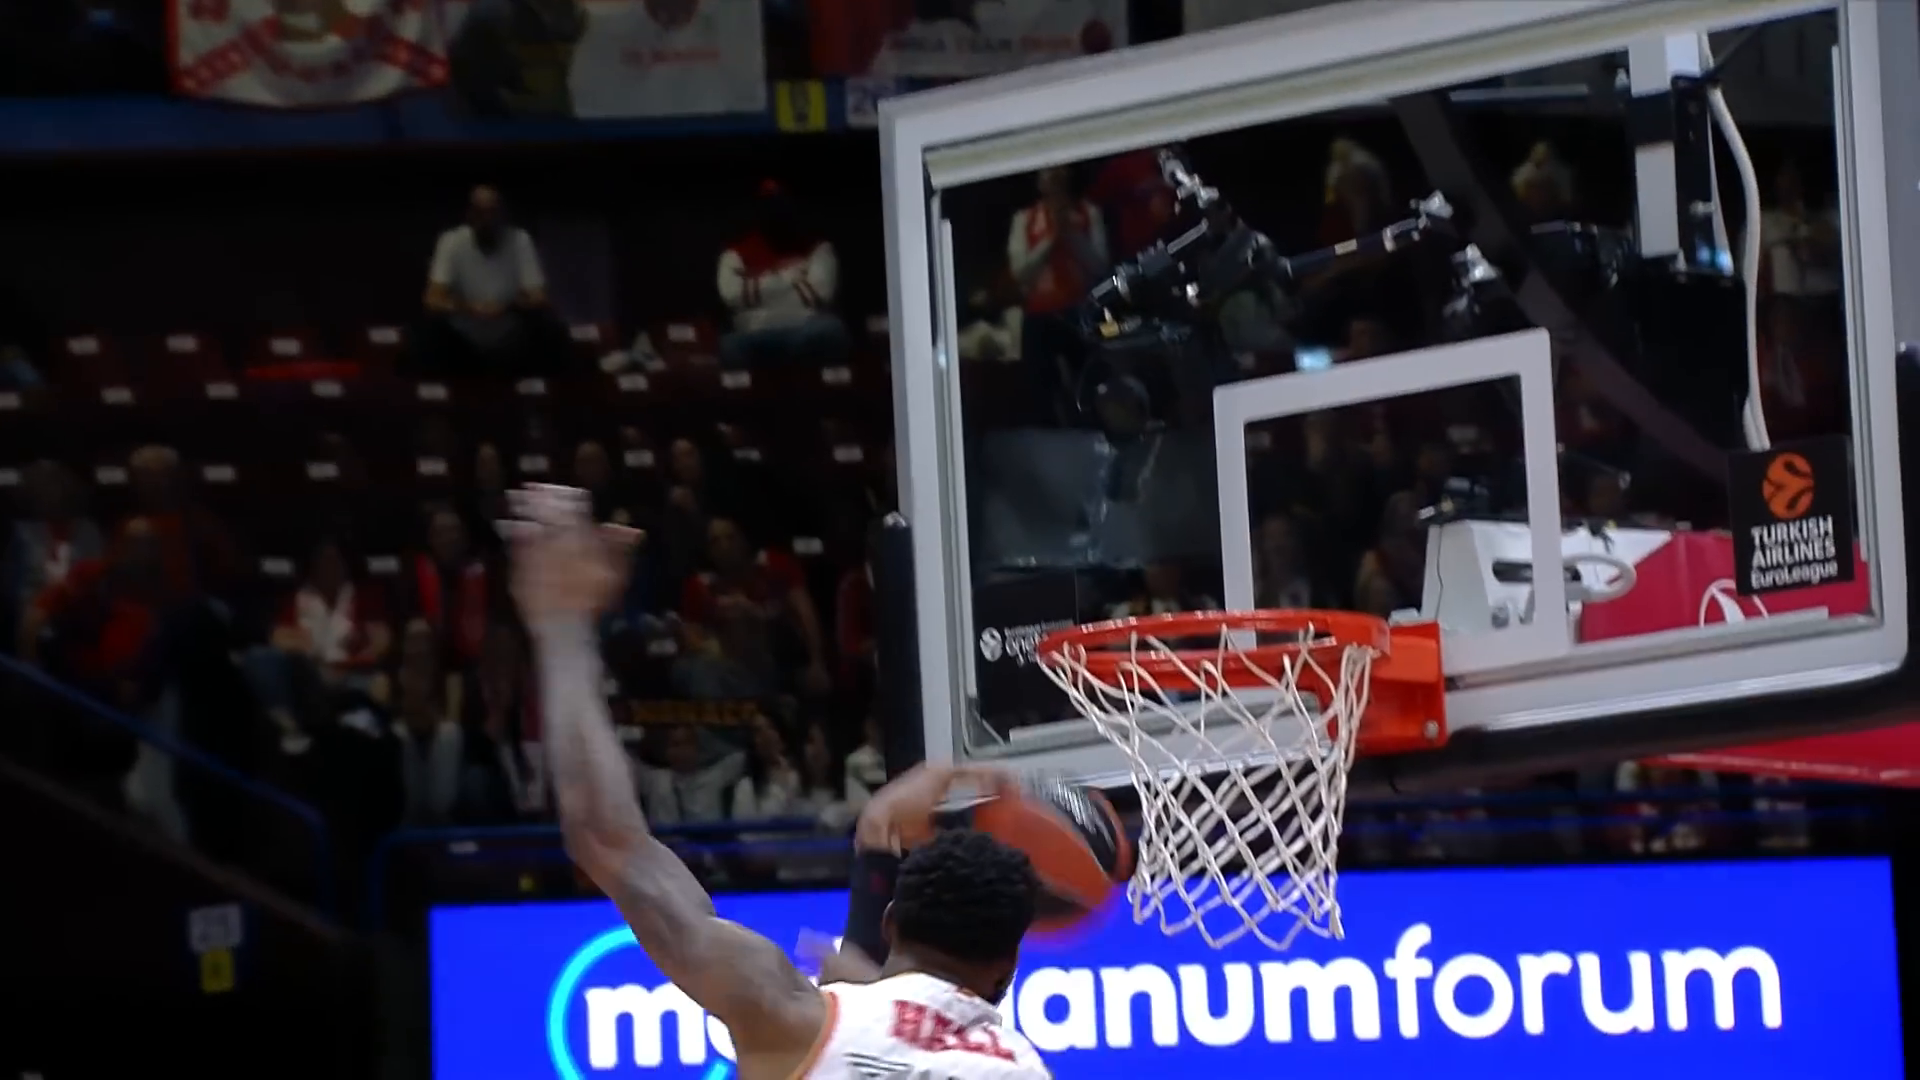ball: (963, 767, 1142, 942)
net: (1029, 599, 1386, 955)
